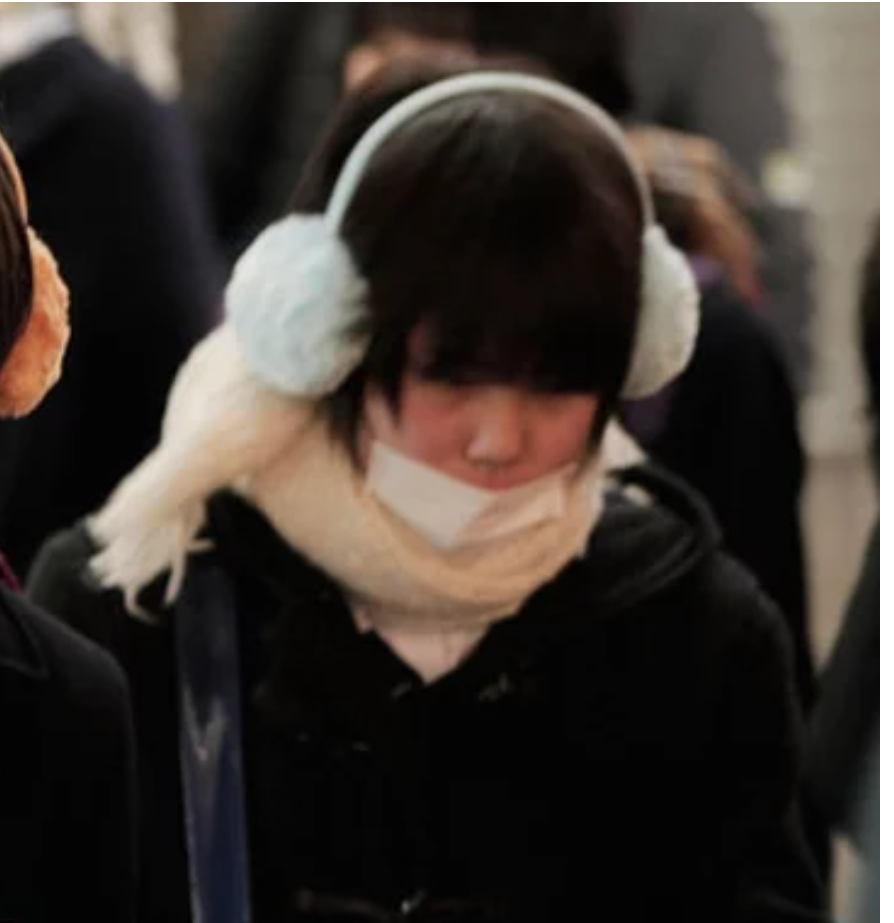mask_weared_incorrect: (292, 260, 646, 585)
